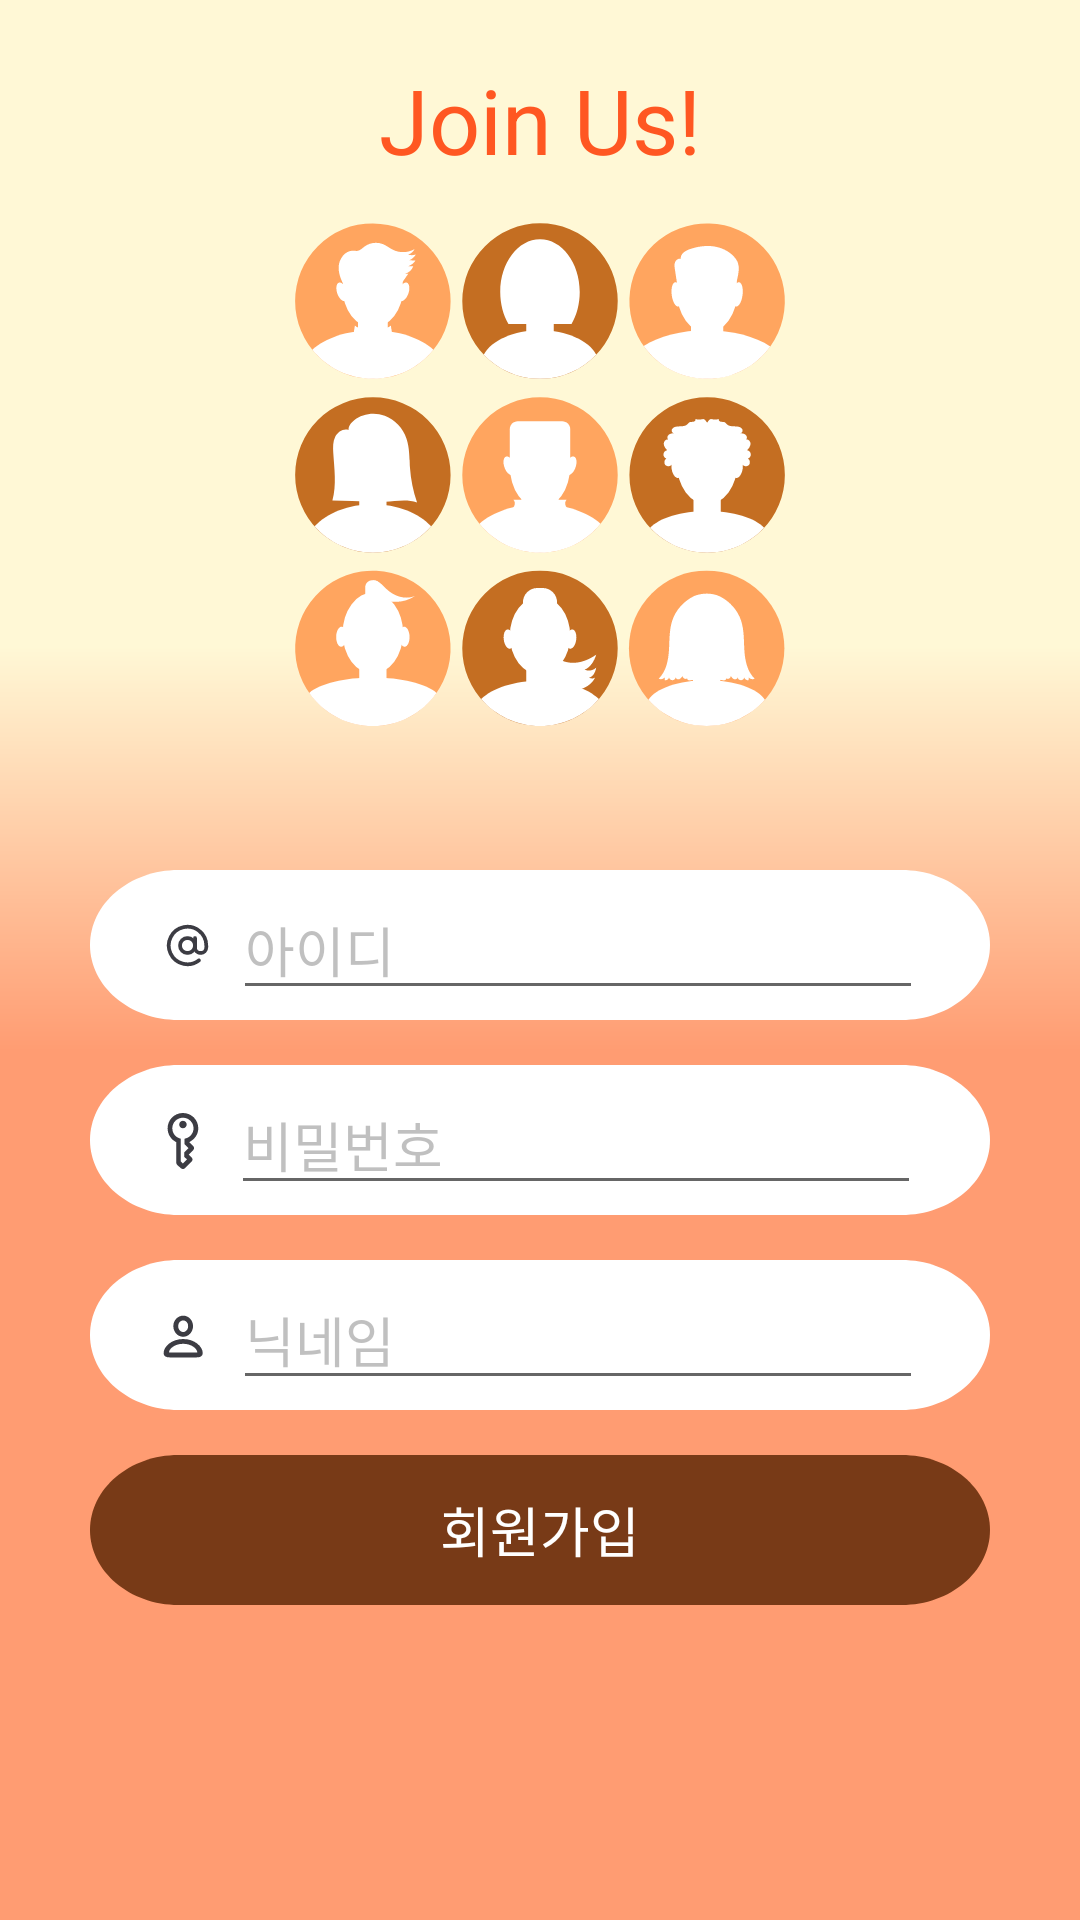

Locate icon controls on the screen. Image size 1080 x 1920, boxes as BBox(x1, y1, x2, y2).
email: BBox(166, 924, 209, 967)
login key: BBox(167, 1113, 199, 1169)
login user: BBox(163, 1315, 203, 1358)
